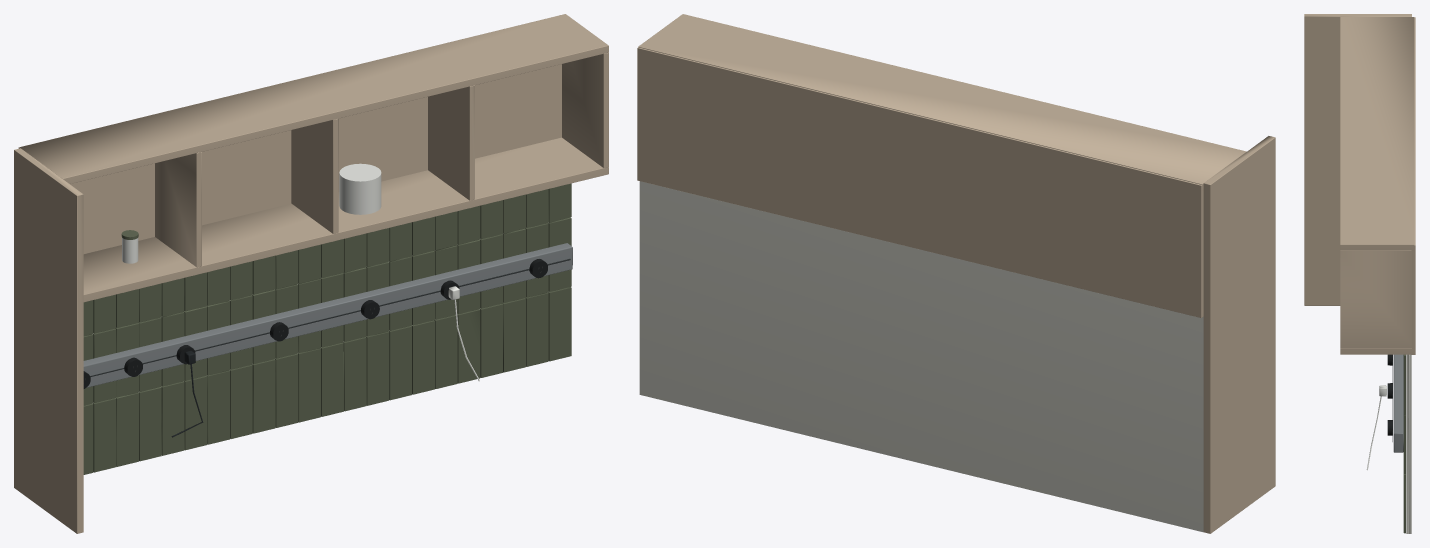
3 renders of one model, left to right at view 1: azimuth 30°, elevation 25°; view 2: azimuth 150°, elevation 25°; view 3: azimuth 270°, elevation 25°, orthographic. The views are drawn at different scales.
Parts seen in each view (by area): view 1: Upper open shelf back, Vertical olive tile 00 0, Grey socket track, Plain white shelf bowl, Round black socket module 0, Track continuous dark center slot; view 2: Upper open shelf back, Backsplash warm grout backing; view 3: Upper open shelf back, Grey socket track, Backsplash warm grout backing, Vertical olive tile 00 0, Round black socket module 0, Plain white shelf bowl.
Part boxes in pixels (<box>): Upper open shelf back: <box>14,14,608,533</box>; Vertical olive tile 00 0: <box>83,183,571,474</box>; Grey socket track: <box>83,243,572,387</box>; Plain white shelf bowl: <box>122,163,479,381</box>; Round black socket module 0: <box>83,259,547,388</box>; Track continuous dark center slot: <box>90,259,570,376</box>; Upper open shelf back: <box>637,14,1275,533</box>; Backsplash warm grout backing: <box>639,181,1203,532</box>; Upper open shelf back: <box>1304,14,1415,354</box>; Grey socket track: <box>1393,354,1403,452</box>; Backsplash warm grout backing: <box>1406,354,1411,533</box>; Vertical olive tile 00 0: <box>1403,354,1405,533</box>; Round black socket module 0: <box>1387,354,1392,435</box>; Plain white shelf bowl: <box>1366,385,1386,470</box>.
Size of the model in its own units: 2.43 by 1.42 by 0.496.
